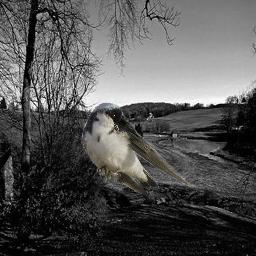Swallow: (80, 101, 194, 197)
